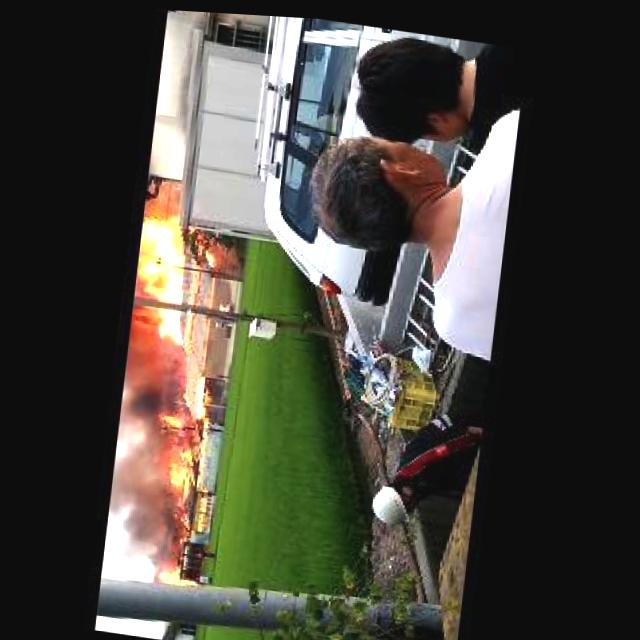helmet: (130, 207, 200, 344), (148, 378, 208, 497)
no_helmet: (101, 358, 193, 566)
